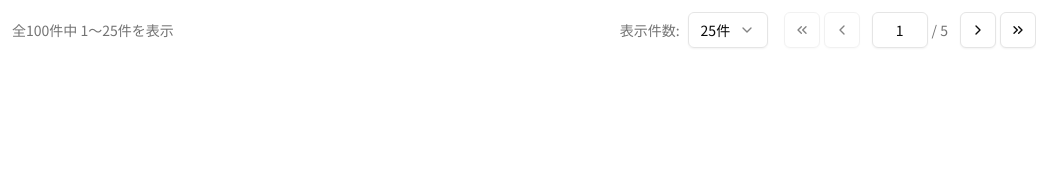
it: Pagination › per page selector › should render custom per page options
The image size is (1048, 179).
Click the dropdown named "1ページあたりの表示件数" at (728, 30), box left=688, top=12, right=768, bottom=48
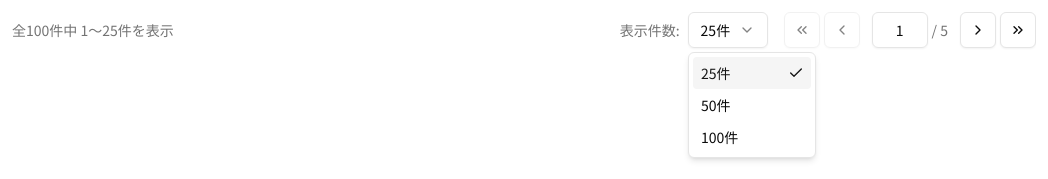
Check: the option "25件" is shown, box left=693, top=57, right=811, bottom=89
Check: the option "50件" is shown, box left=701, top=95, right=730, bottom=115
Check: the option "100件" is shown, box left=701, top=127, right=738, bottom=147
